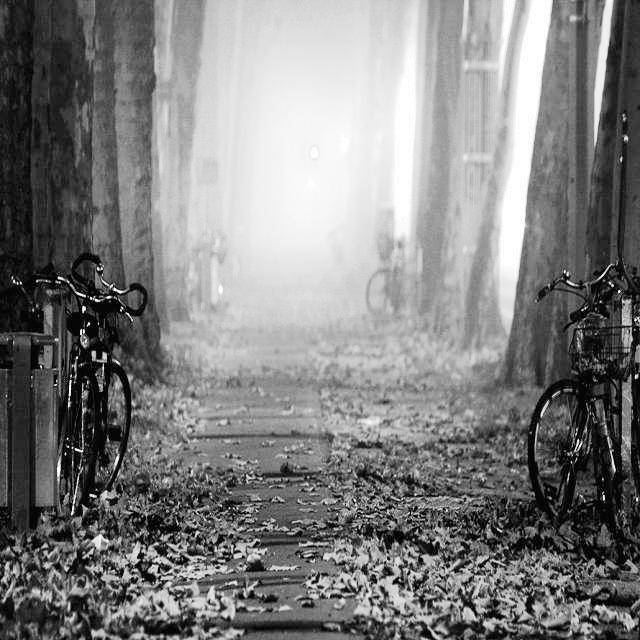Bicycle: (525, 256, 640, 576), (59, 256, 152, 532), (360, 218, 425, 323)
